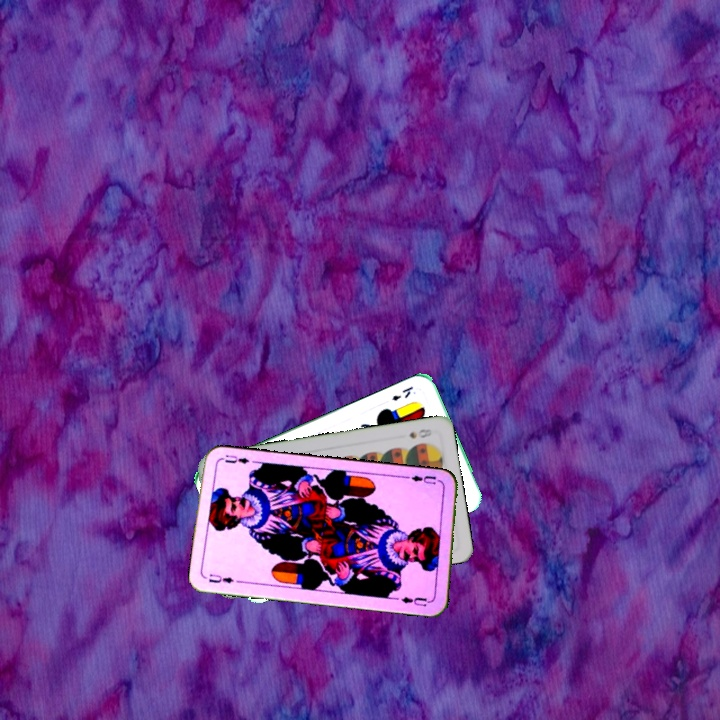EK: (388, 382, 415, 404)
EU: (404, 471, 439, 488), (205, 570, 236, 586)
S8: (405, 425, 434, 441)
